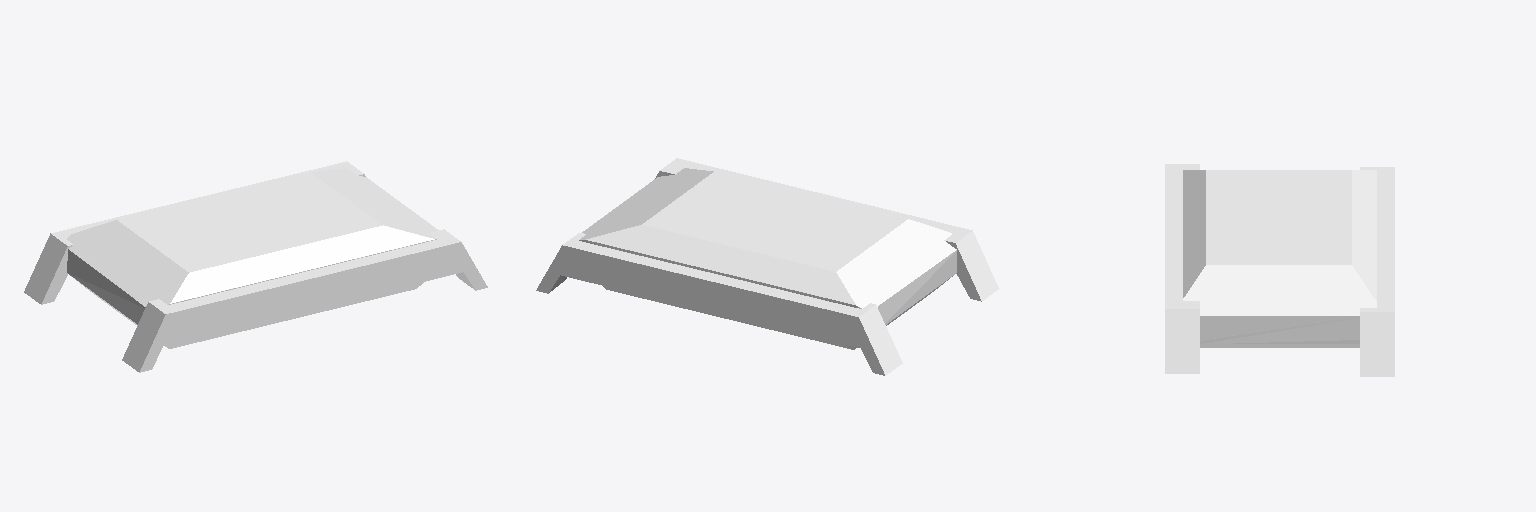
File: bottom.obj
3 views of the same model, side by side, from view 1: azimuth 30°, elevation 25°; view 2: azimuth 150°, elevation 25°; view 3: azimuth 270°, elevation 25° (orthographic).
Parts seen in each view (by area): view 1: Object.002; view 2: Object.002; view 3: Object.002.
Part boxes in pixels (x1,y1,x2,y2): Object.002: (24, 161, 487, 372); Object.002: (536, 158, 998, 375); Object.002: (1165, 164, 1394, 376).
Bounding box in the file's own units: 6.07 × 1.18 × 3.45.